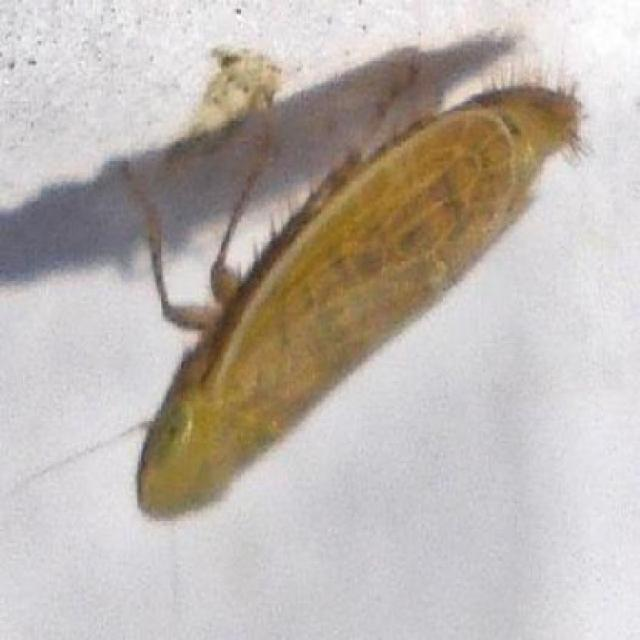green-leafhopper: (114, 65, 582, 517)
